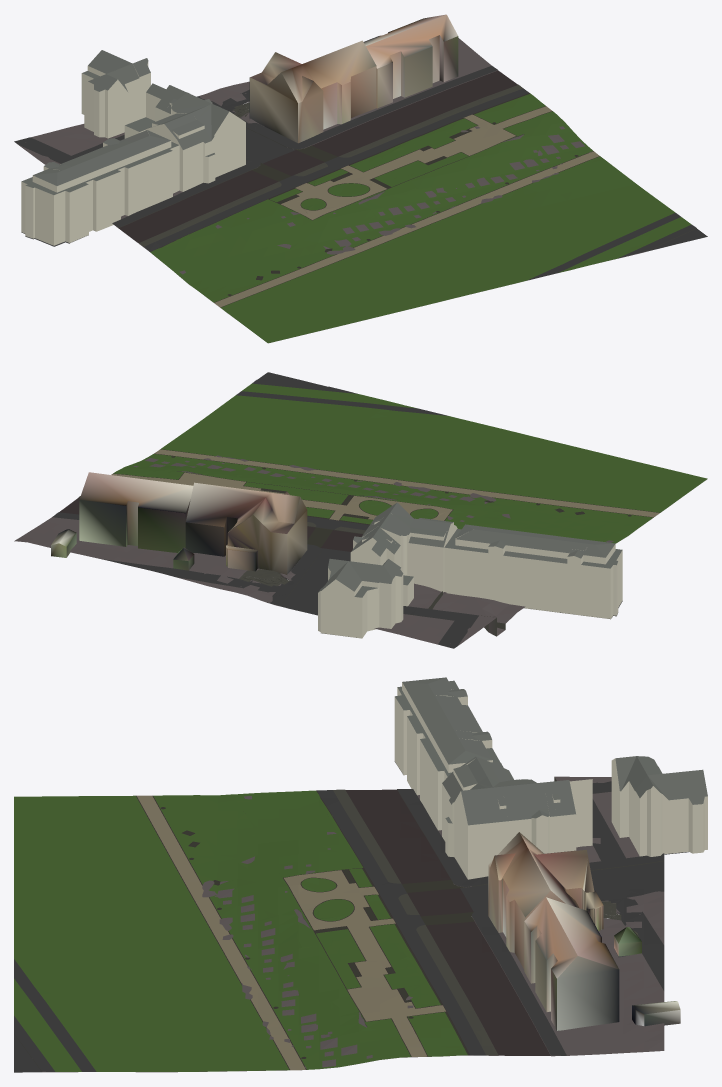
The picture shows the model from 3 angles, top to bottom: view 1: azimuth 30°, elevation 25°; view 2: azimuth 150°, elevation 25°; view 3: azimuth 270°, elevation 25°; orthographic projection. The views are drawn at different scales.
Visible parts, largest first — view 1: c_m04_p12; view 2: c_m04_p12; view 3: c_m04_p12.
Part boxes in pixels (x1,y1,x2,y2): c_m04_p12: (14,14,707,343); c_m04_p12: (14,372,707,648); c_m04_p12: (14,677,707,1072).
Bounding box in the file's own units: 150 × 21.9 × 137.
